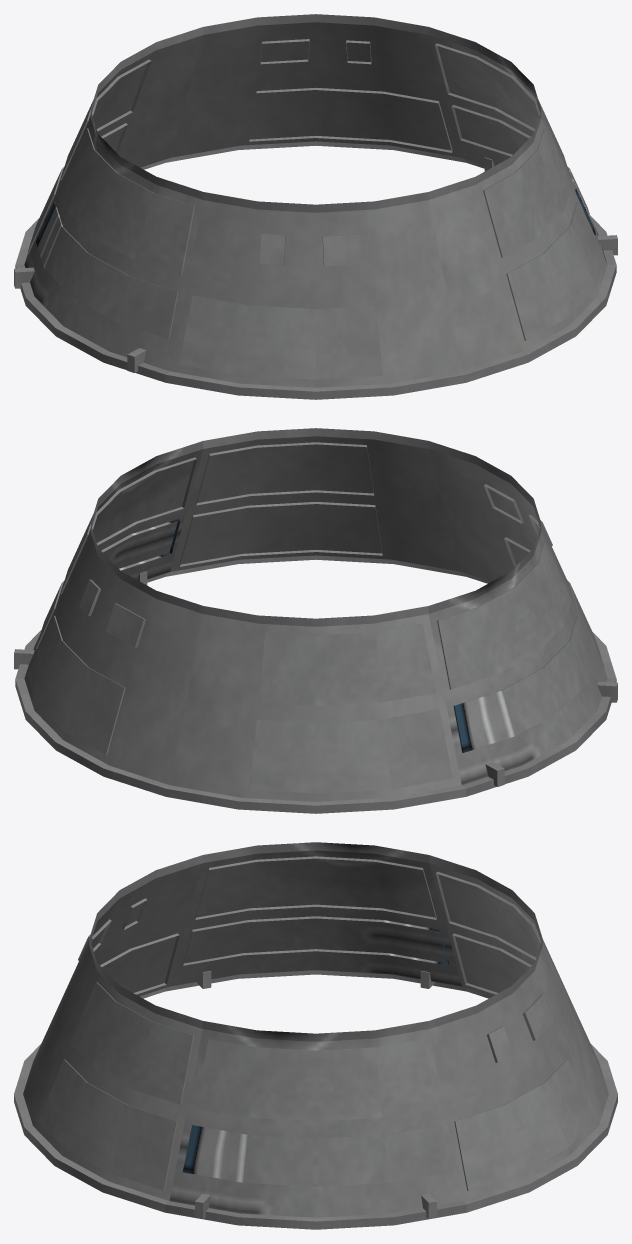
File: big adapter_naked.obj
The picture shows the model from 3 angles, top to bottom: view 1: azimuth 30°, elevation 25°; view 2: azimuth 150°, elevation 25°; view 3: azimuth 270°, elevation 25°; orthographic projection.
Parts seen in each view (by area): view 1: 1; view 2: 1; view 3: 1.
Boxes of the visible parts, bbox=[...] form: 1: bbox=[14, 14, 617, 399]; 1: bbox=[14, 428, 617, 813]; 1: bbox=[14, 842, 617, 1229].
Size of the model in its own units: 2.5 by 0.75 by 2.5.
